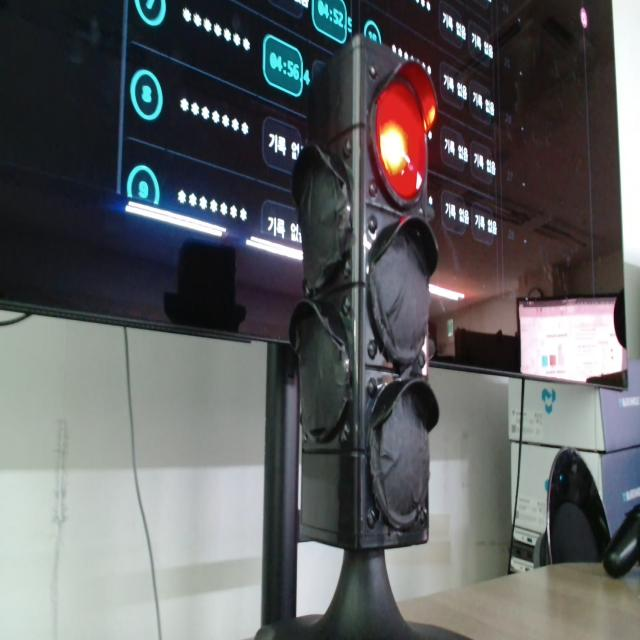red_light: (375, 80, 426, 201)
